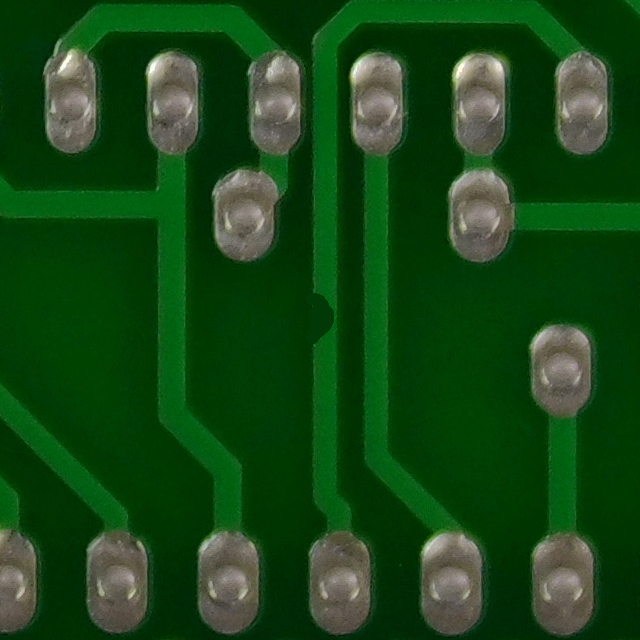mouse_bite: (287, 282, 353, 358)
